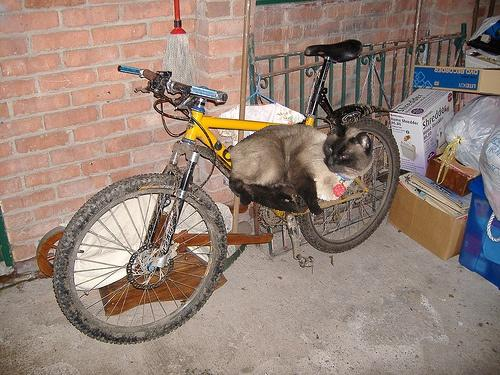tampered: (230, 121, 373, 215)
